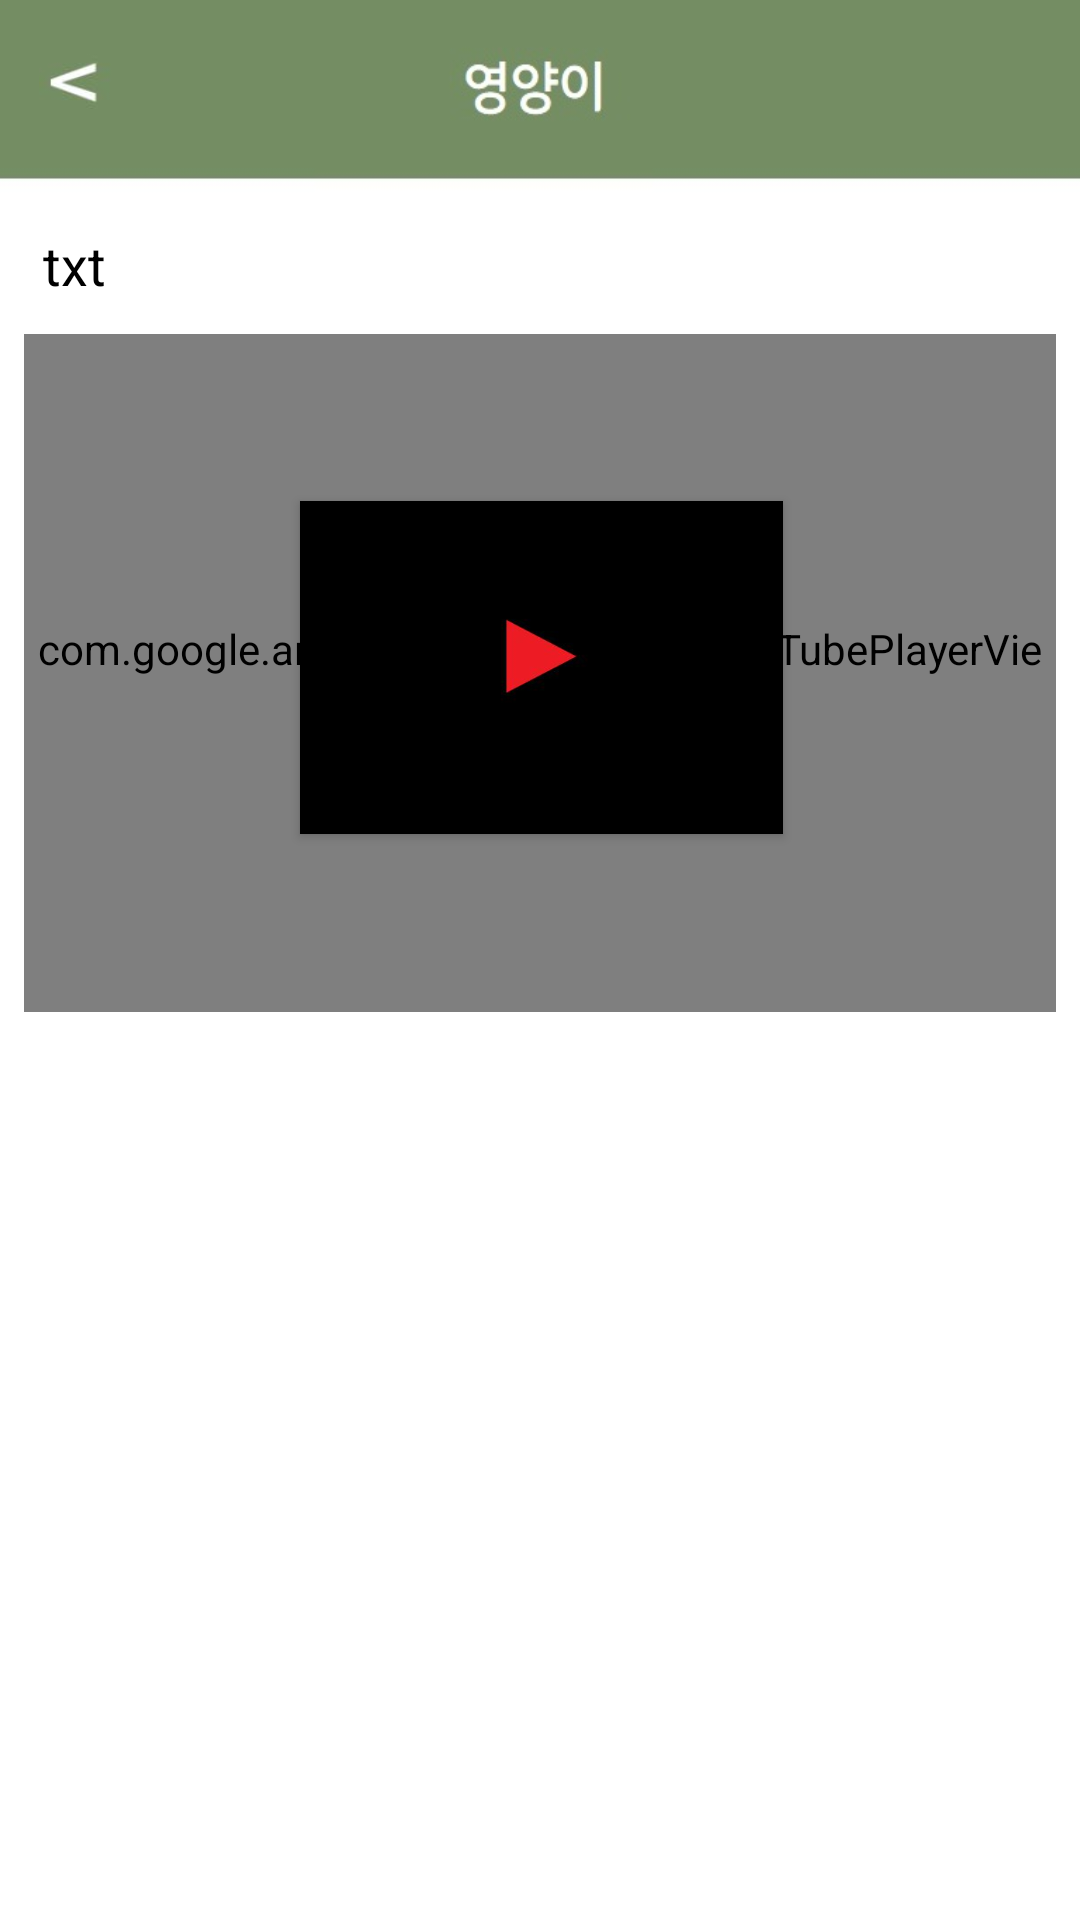

Icon click points for this 1080*1920 phone screenshot, format point (x, y):
backimage: point (73, 82)
